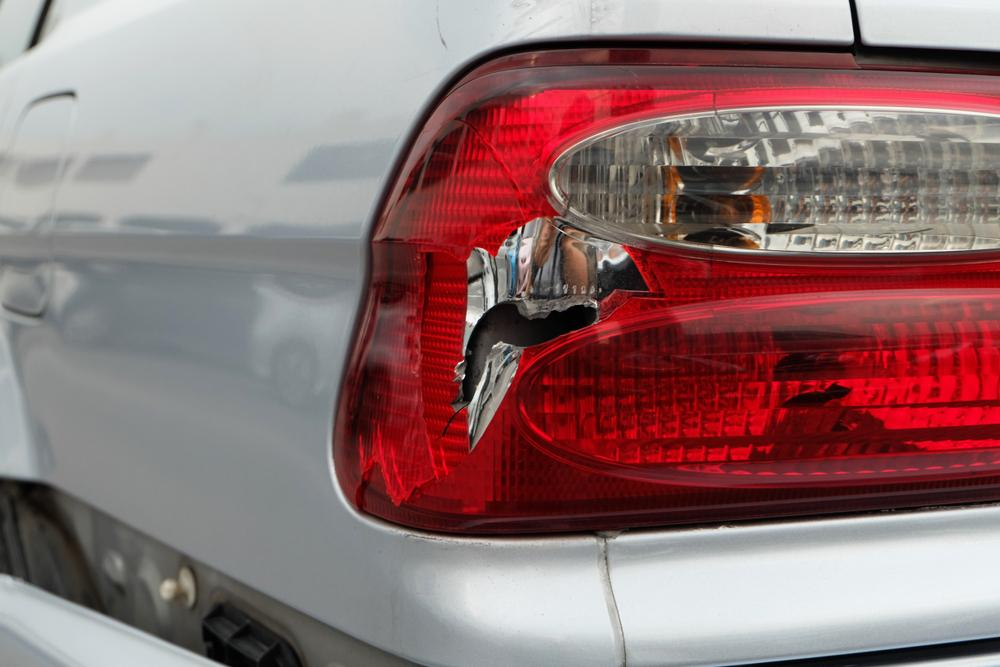lamp broken: (329, 43, 1000, 537)
